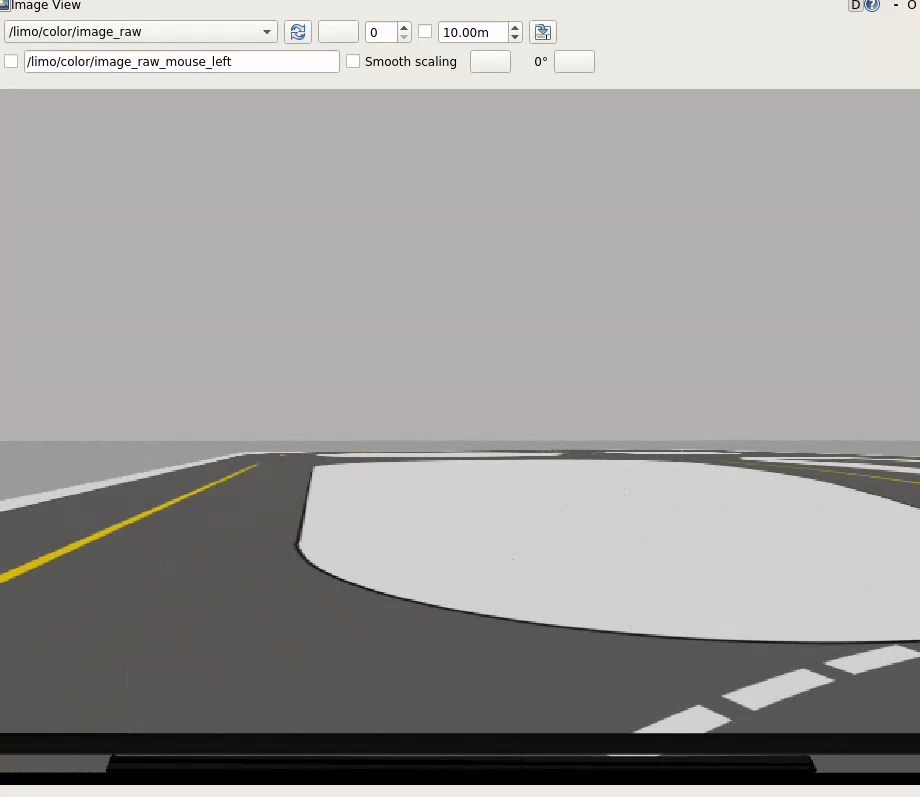Dashed: (726, 667, 833, 710), (825, 645, 919, 673), (636, 705, 729, 732)
Solid: (1, 464, 262, 584)
Street: (0, 454, 919, 731), (561, 452, 919, 509), (317, 454, 561, 466)
